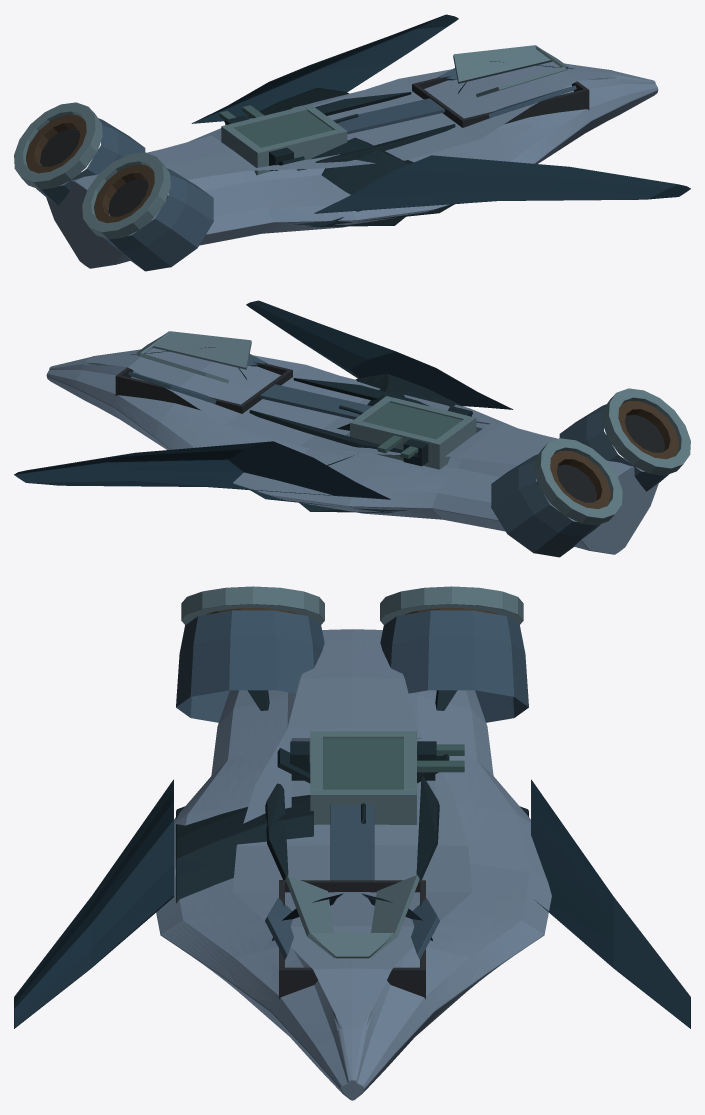
The model's file is hornet_production_v1_lod2.glb.
3 views of the same model, one above another, from view 1: azimuth 30°, elevation 25°; view 2: azimuth 150°, elevation 25°; view 3: azimuth 270°, elevation 25° (orthographic). The views are drawn at different scales.
Visible parts, largest first — view 1: LOD2_Hull, Wing_Port.002, Wing_Stbd.002, DriveHouse_Port.002, DriveFlange_Port.002, DriveFlange_Stbd.002, Wing_Port_RootFairing.002, CanopyFrame_Stbd.002, RadiatorCore_C195.002, DriveHouse_Stbd.002, ZoneSpineCrown.002, DriveCeramic_Port.002 (+14 smaller); view 2: LOD2_Hull, Wing_Stbd.002, Wing_Port.002, DriveHouse_Stbd.002, DriveFlange_Stbd.002, DriveFlange_Port.002, CanopyFrame_Port.002, RadiatorCore_C195.002, DriveHouse_Port.002, ZoneSpineCrown.002, DriveCeramic_Stbd.002, DriveCeramic_Port.002 (+14 smaller); view 3: LOD2_Hull, Wing_Port.002, DriveHouse_Port.002, DriveHouse_Stbd.002, Wing_Stbd.002, Wing_Port_RootFairing.002, RadiatorCore_C195.002, DriveFlange_Port.002, DriveFlange_Stbd.002, ZoneSpineCrown.002, RadiatorCassette_C195_Fore.002, CanopyFrame_Port.002 (+10 smaller).
Part boxes in pixels (box(x1,y1,x2,y2)): LOD2_Hull: box(46, 61, 658, 268); Wing_Port.002: box(314, 155, 690, 213); Wing_Stbd.002: box(191, 14, 458, 123); DriveHouse_Port.002: box(104, 168, 213, 271); DriveFlange_Port.002: box(82, 152, 170, 239); DriveFlange_Stbd.002: box(14, 102, 102, 189); Wing_Port_RootFairing.002: box(294, 137, 454, 225); CanopyFrame_Stbd.002: box(453, 45, 552, 83); RadiatorCore_C195.002: box(235, 111, 333, 147); DriveHouse_Stbd.002: box(36, 118, 145, 205); ZoneSpineCrown.002: box(333, 98, 444, 134); DriveCeramic_Port.002: box(94, 164, 154, 223); LOD2_Hull: box(46, 347, 658, 554); Wing_Stbd.002: box(14, 441, 390, 499); Wing_Port.002: box(246, 300, 513, 409); DriveHouse_Stbd.002: box(491, 454, 600, 557); DriveFlange_Stbd.002: box(534, 438, 622, 525); DriveFlange_Port.002: box(602, 388, 690, 475); CanopyFrame_Port.002: box(152, 331, 251, 369); RadiatorCore_C195.002: box(364, 402, 462, 439); DriveHouse_Port.002: box(559, 404, 668, 491); ZoneSpineCrown.002: box(260, 384, 371, 419); DriveCeramic_Stbd.002: box(550, 450, 610, 509); DriveCeramic_Port.002: box(618, 401, 678, 459); LOD2_Hull: box(156, 629, 551, 1100); Wing_Port.002: box(14, 779, 173, 1028); DriveHouse_Port.002: box(176, 610, 324, 722); DriveHouse_Stbd.002: box(380, 610, 528, 722); Wing_Stbd.002: box(531, 779, 690, 1028); Wing_Port_RootFairing.002: box(176, 795, 313, 903); RadiatorCore_C195.002: box(323, 738, 403, 789); DriveFlange_Port.002: box(181, 586, 324, 625); DriveFlange_Stbd.002: box(380, 586, 523, 625); ZoneSpineCrown.002: box(330, 805, 374, 880); RadiatorCassette_C195_Fore.002: box(310, 789, 416, 824); CanopyFrame_Port.002: box(285, 875, 334, 958).
Size of what is drawn, in the model's own units: 10.95 by 2.18 by 7.36.
Materials: 10 (6 with a texture image).
